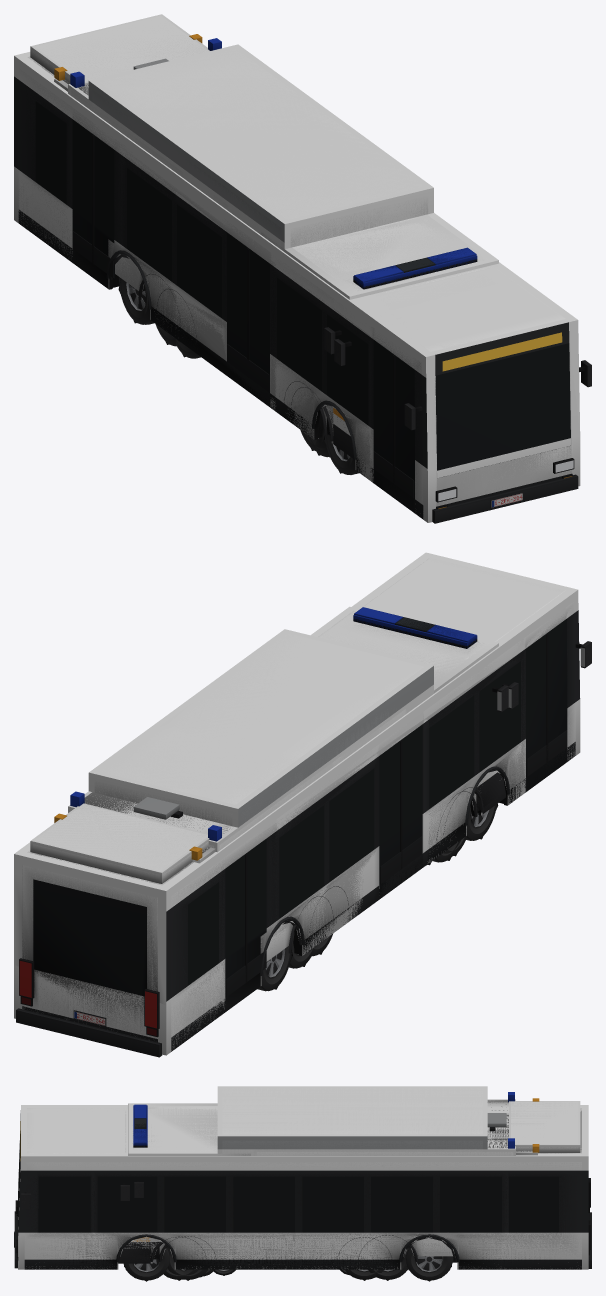
Rendered from heavy.glb.
3 views of the same model, one above another, from view 1: azimuth 30°, elevation 25°; view 2: azimuth 150°, elevation 25°; view 3: azimuth 270°, elevation 25° (orthographic). The views are drawn at different scales.
Parts seen in each view (by area): view 1: Body_L2 (×3), Body (×3), Body_L1 (×3), Wheel_RR; view 2: Body_L2 (×3), Body (×3), Body_L1 (×3), Wheel_RR; view 3: Body_L2 (×3), Body (×3), Body_L1 (×3), Wheel_RL (×2), Wheel_FL (×2), Wheel_RL_L1.
Part boxes in pixels (x1,y1,x2,y2): Body_L2 (×3): [14, 44, 580, 522]; Body (×3): [18, 16, 591, 522]; Body_L1 (×3): [18, 14, 591, 523]; Wheel_RR: [119, 277, 151, 324]; Body_L2 (×3): [14, 552, 580, 1055]; Body (×3): [17, 557, 591, 1055]; Body_L1 (×3): [16, 561, 591, 1057]; Wheel_RR: [257, 945, 292, 991]; Body_L2 (×3): [18, 1086, 588, 1269]; Body (×3): [14, 1088, 590, 1269]; Body_L1 (×3): [14, 1088, 591, 1269]; Wheel_RL (×2): [368, 1247, 452, 1280]; Wheel_FL (×2): [123, 1248, 207, 1280]; Wheel_RL_L1: [408, 1247, 453, 1280].
Bounding box in the file's own units: 3.02 × 3.4 × 12.16.
